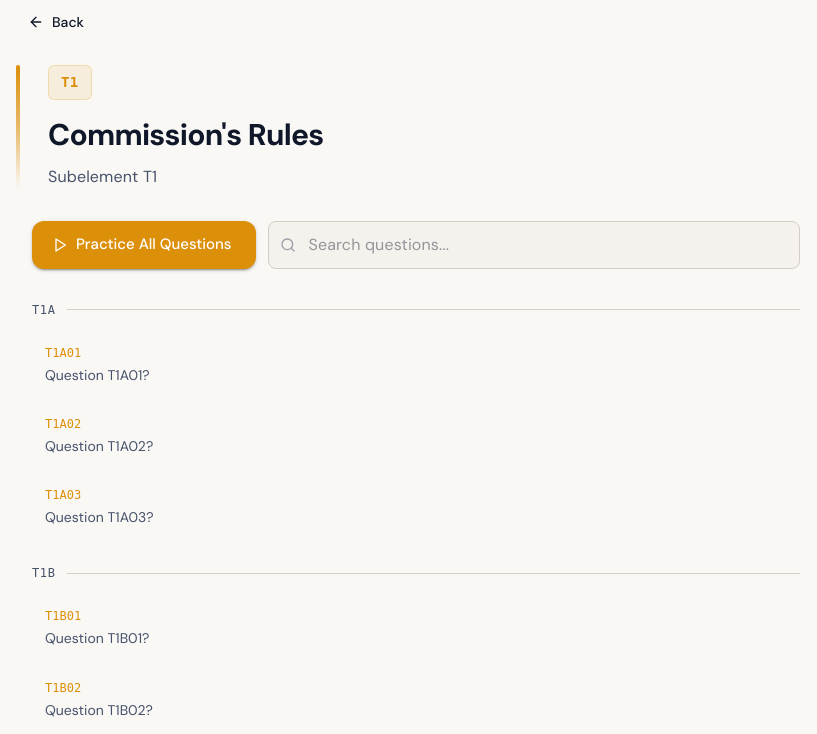
Test: QuestionListView › Search › filters questions by display name
Type "T1A01" into the field with placeholder "Search questions..." at (546, 244), box [308,228,783,260]
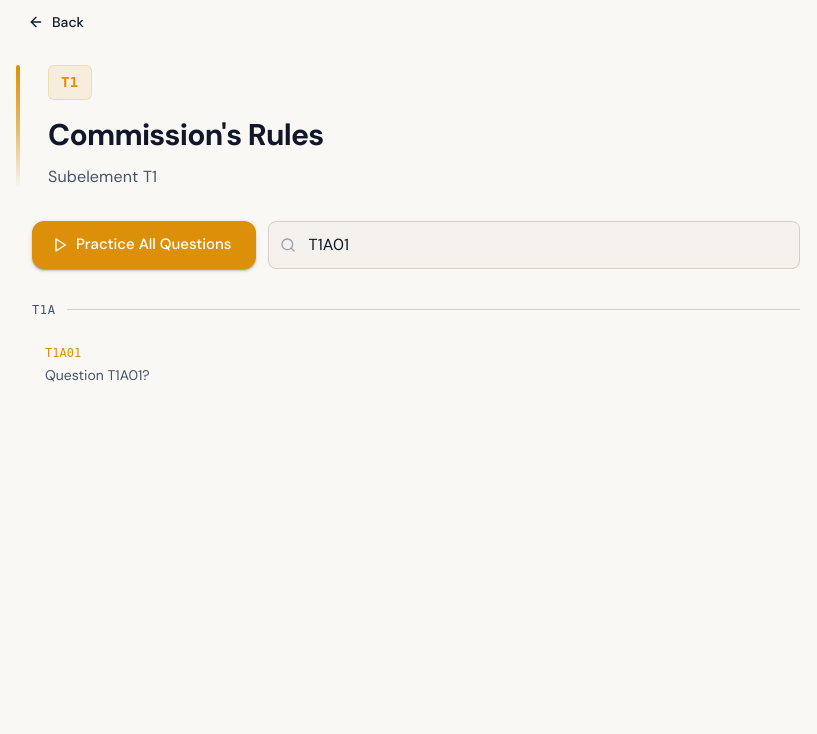
Expected: the text "T1A01" is shown, [45,344,81,362]
Expected: the button "T1A02" is gone
Expected: the button "T1B01" is gone
